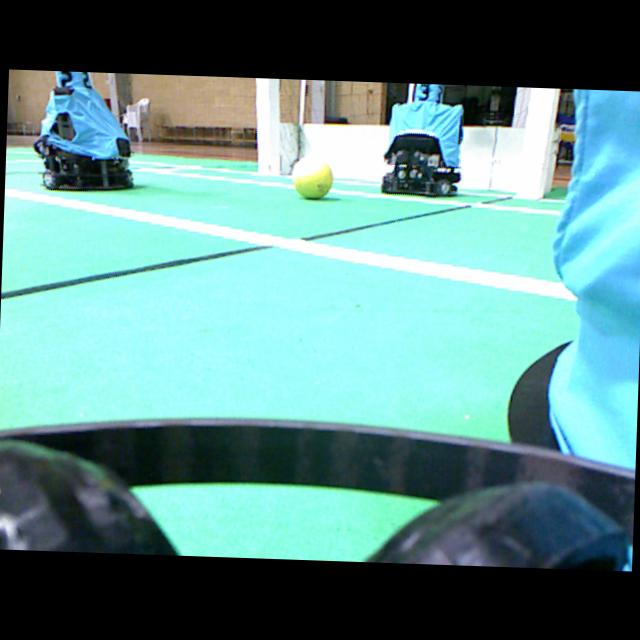ball: (291, 154, 332, 198)
goal: (517, 87, 557, 198), (255, 78, 278, 174)
